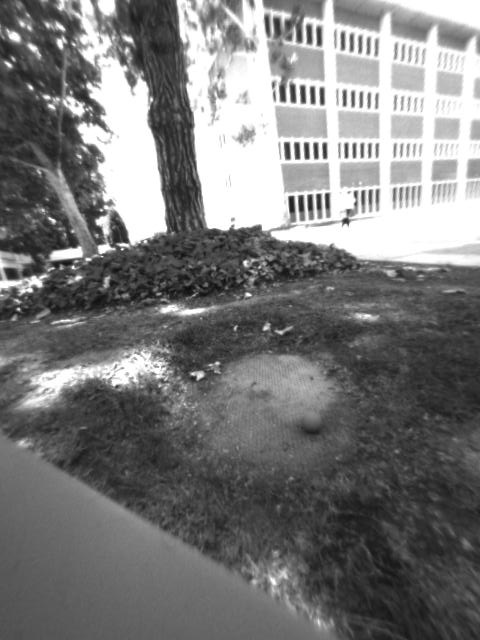dogtoy: (282, 396, 342, 445)
